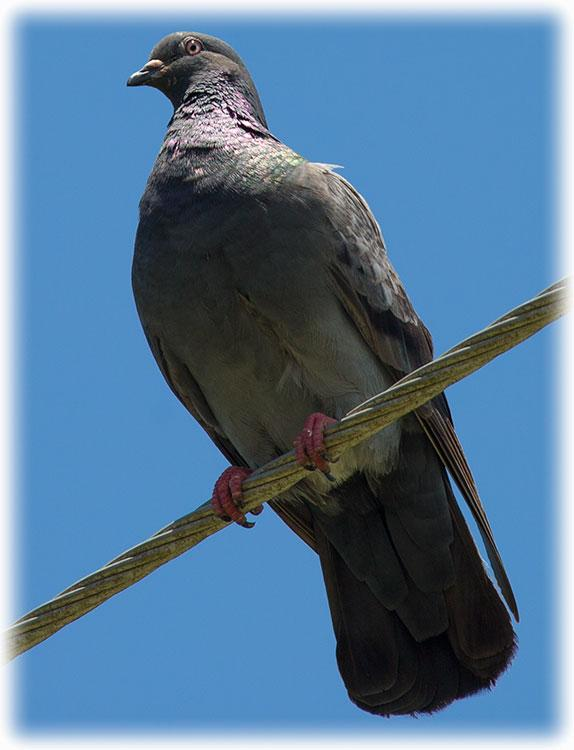Flying Rat: (100, 30, 529, 700)
